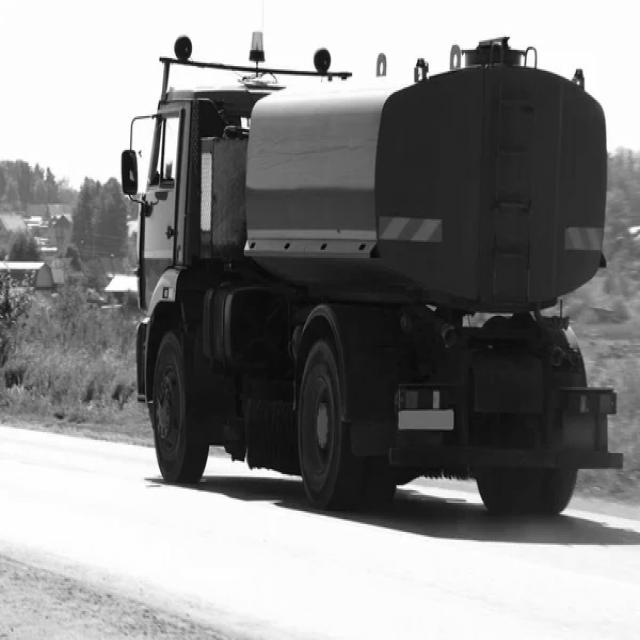Truck: (135, 37, 624, 515)
